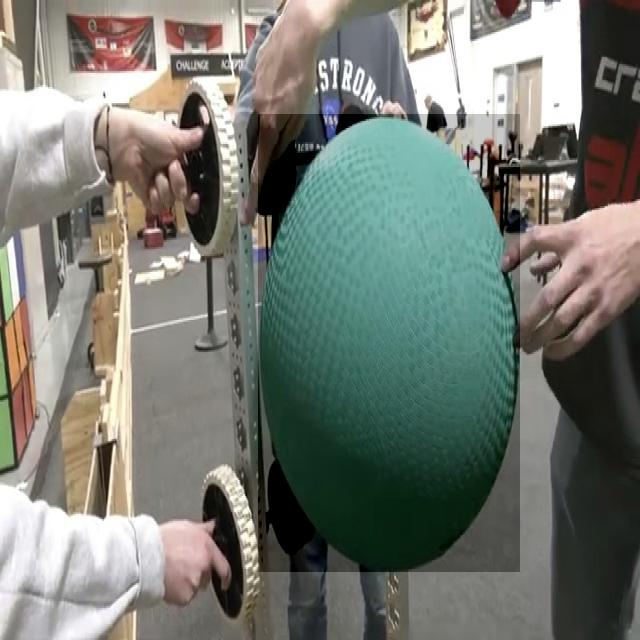Algae: (258, 114, 520, 572)
